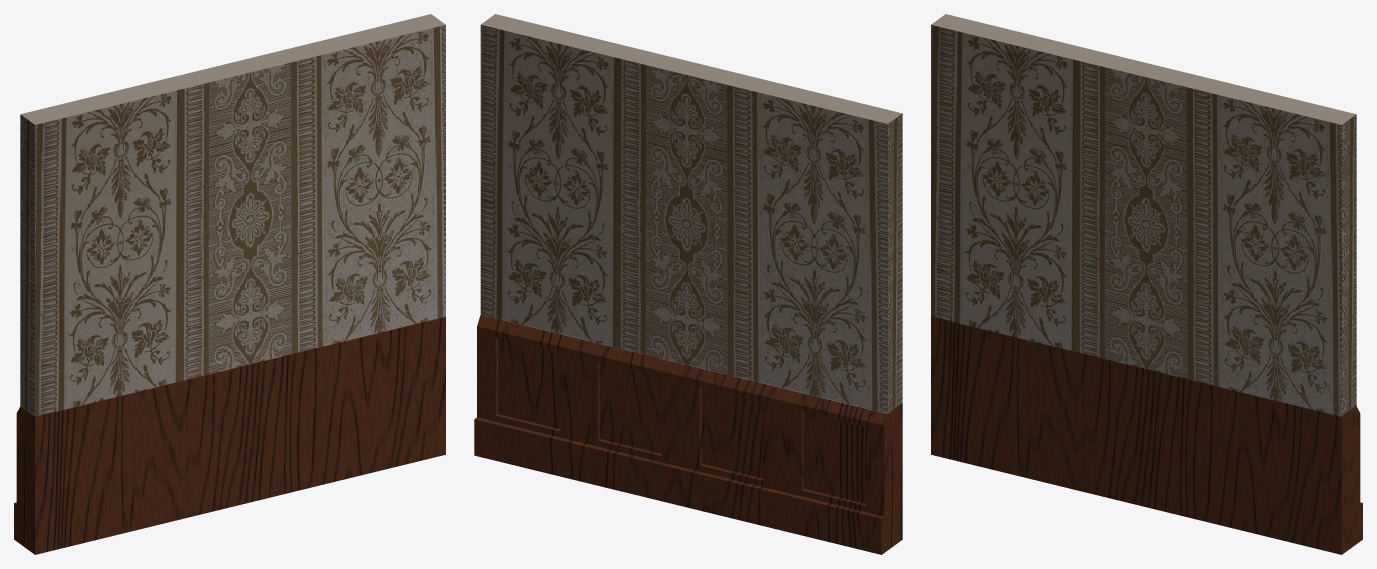
Rendered from Wall.fbx.
The picture shows the model from 3 angles, left to right: view 1: azimuth 30°, elevation 25°; view 2: azimuth 150°, elevation 25°; view 3: azimuth 330°, elevation 25°; orthographic projection.
Visible parts, largest first — view 1: pasted__pCube2; view 2: pasted__pCube2; view 3: pasted__pCube2.
Boxes of the visible parts, bbox=[...] form: pasted__pCube2: bbox=[14, 14, 445, 554]; pasted__pCube2: bbox=[474, 14, 902, 554]; pasted__pCube2: bbox=[931, 14, 1362, 554].
Size of the model in its own units: 16.08 by 16.08 by 1.43.
